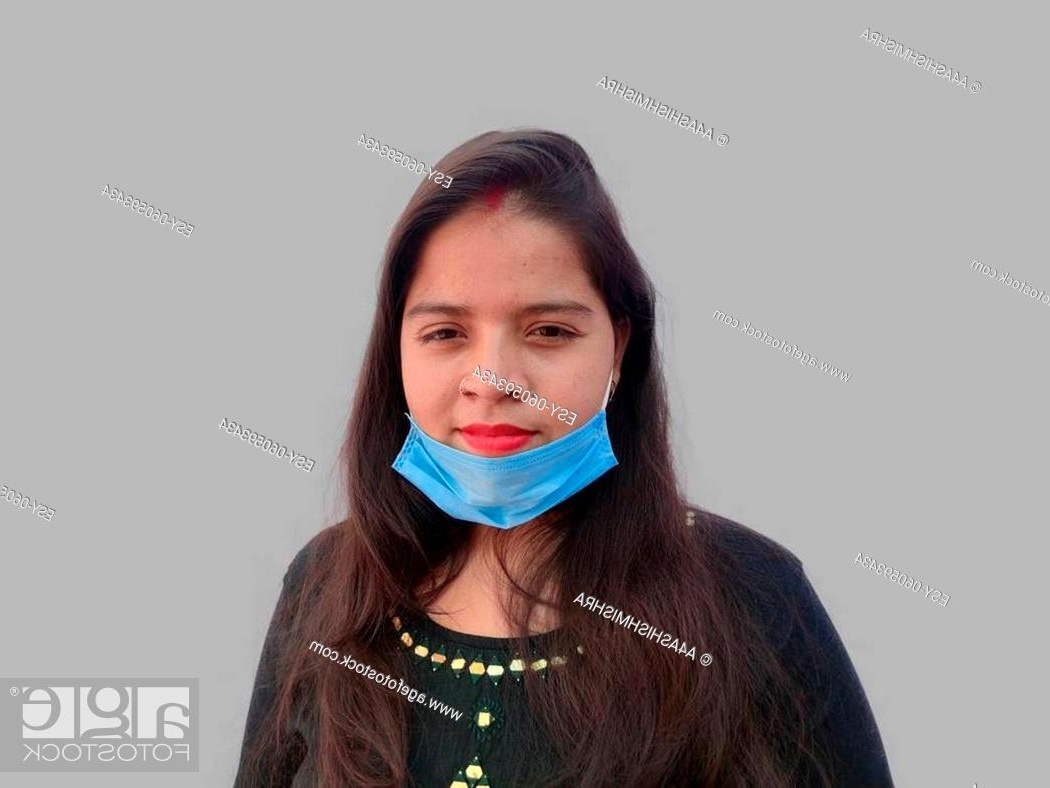mask_weared_incorrect: (400, 211, 614, 520)
